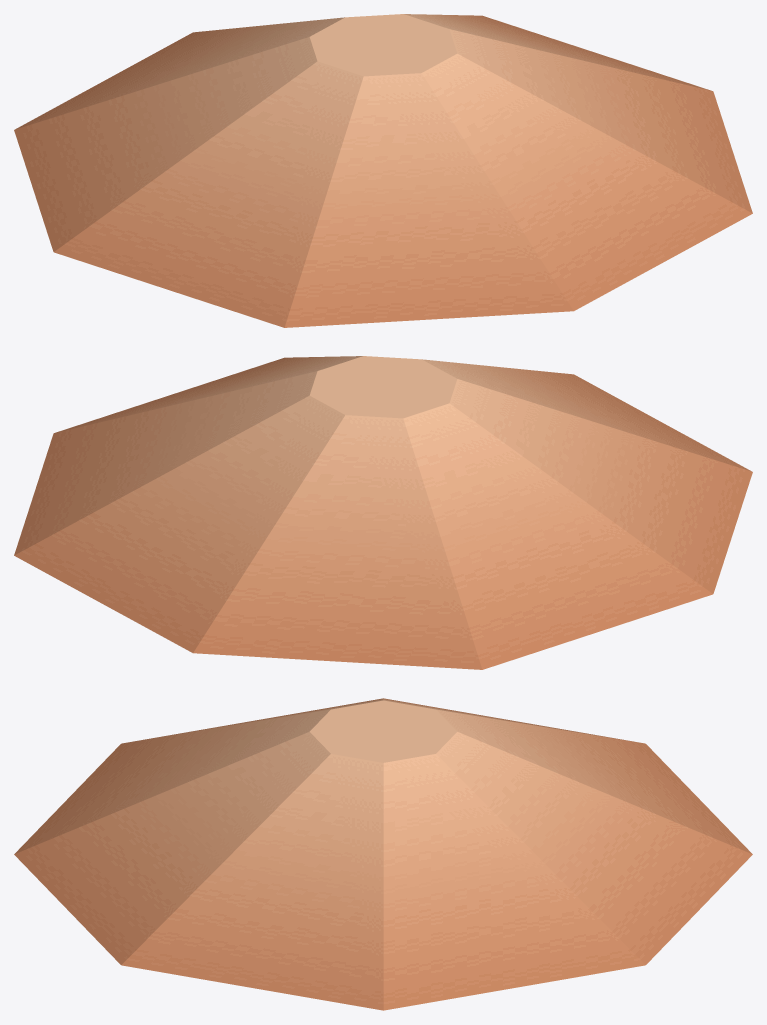
The model's file is sand-2.glb.
3 views of the same model, one above another, from view 1: azimuth 30°, elevation 25°; view 2: azimuth 150°, elevation 25°; view 3: azimuth 270°, elevation 25° (orthographic). The views are drawn at different scales.
Parts seen in each view (by area): view 1: Cube; view 2: Cube; view 3: Cube.
Part boxes in pixels (x1,y1,x2,y2): Cube: (14, 14, 752, 327); Cube: (14, 356, 752, 669); Cube: (14, 698, 752, 1010).
Bounding box in the file's own units: 30 × 5.5 × 30.
Materials: 1 (1 with a texture image).
